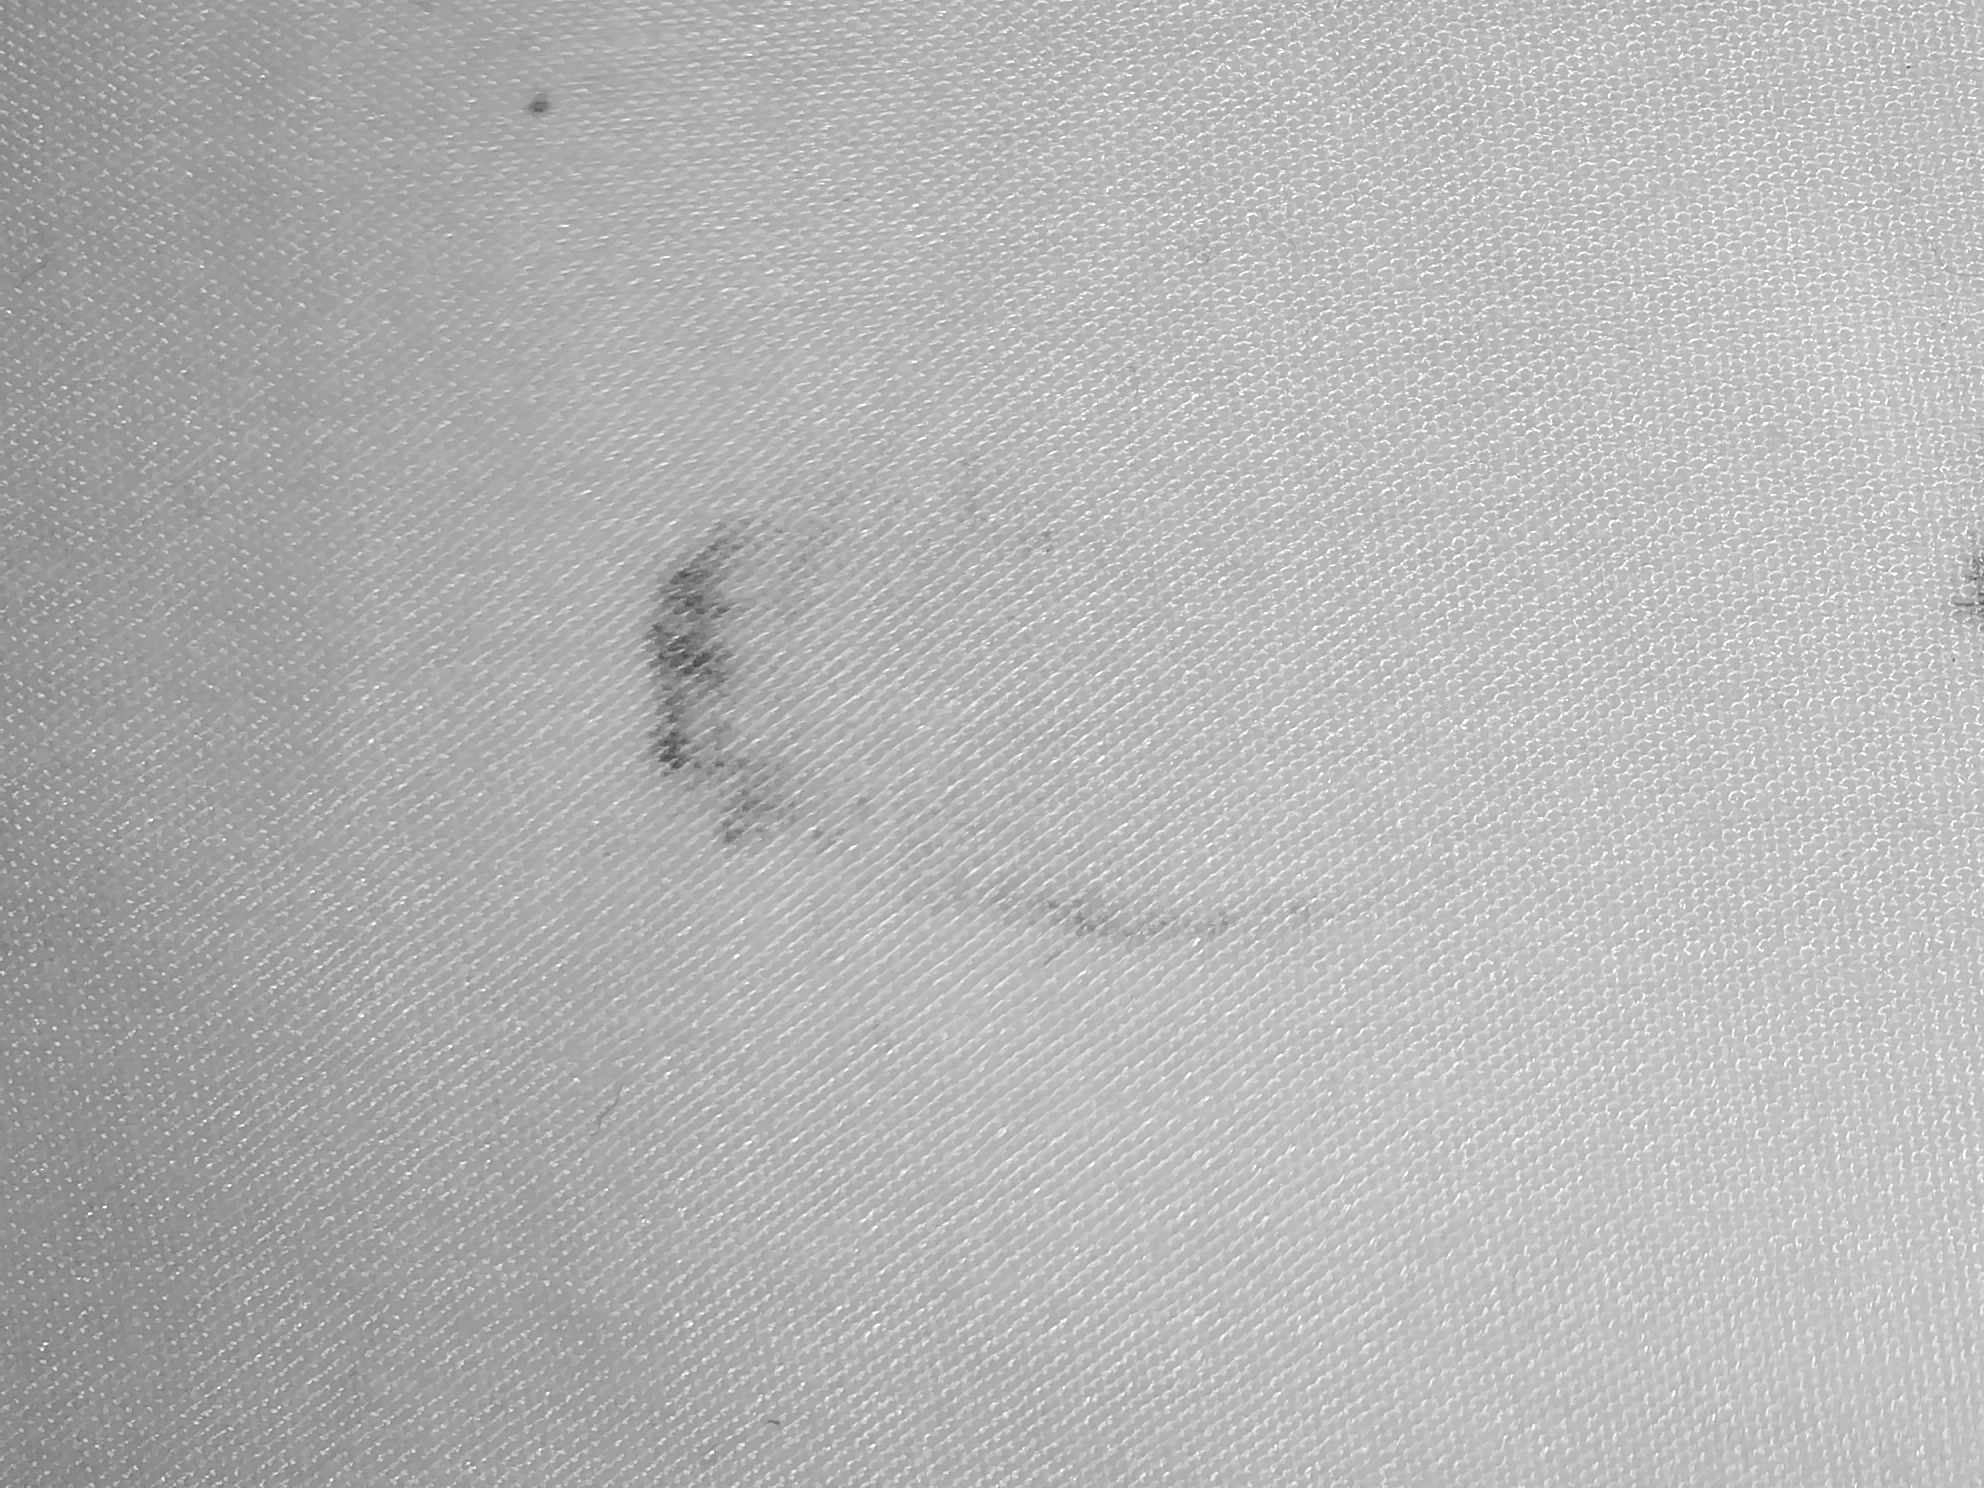Stain: (561, 460, 1462, 1043)
